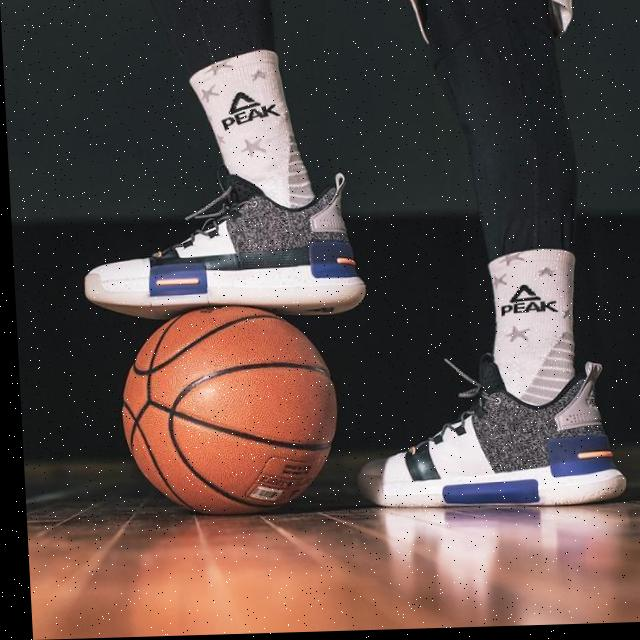Basketball: (122, 305, 349, 520)
